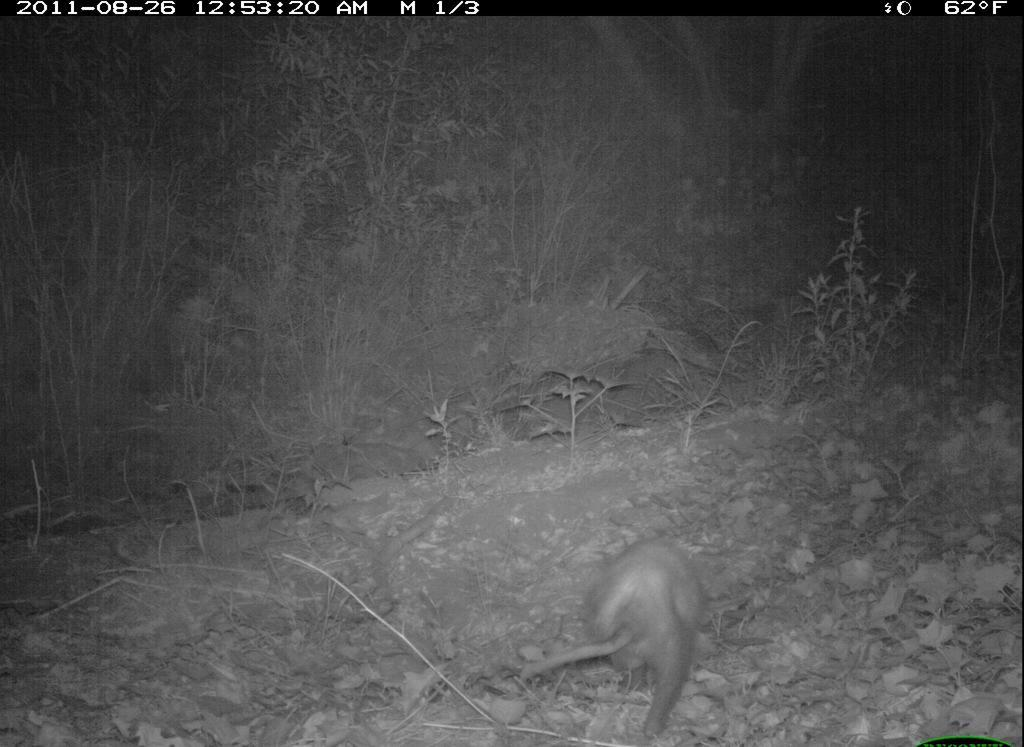opossum: (562, 527, 716, 735)
